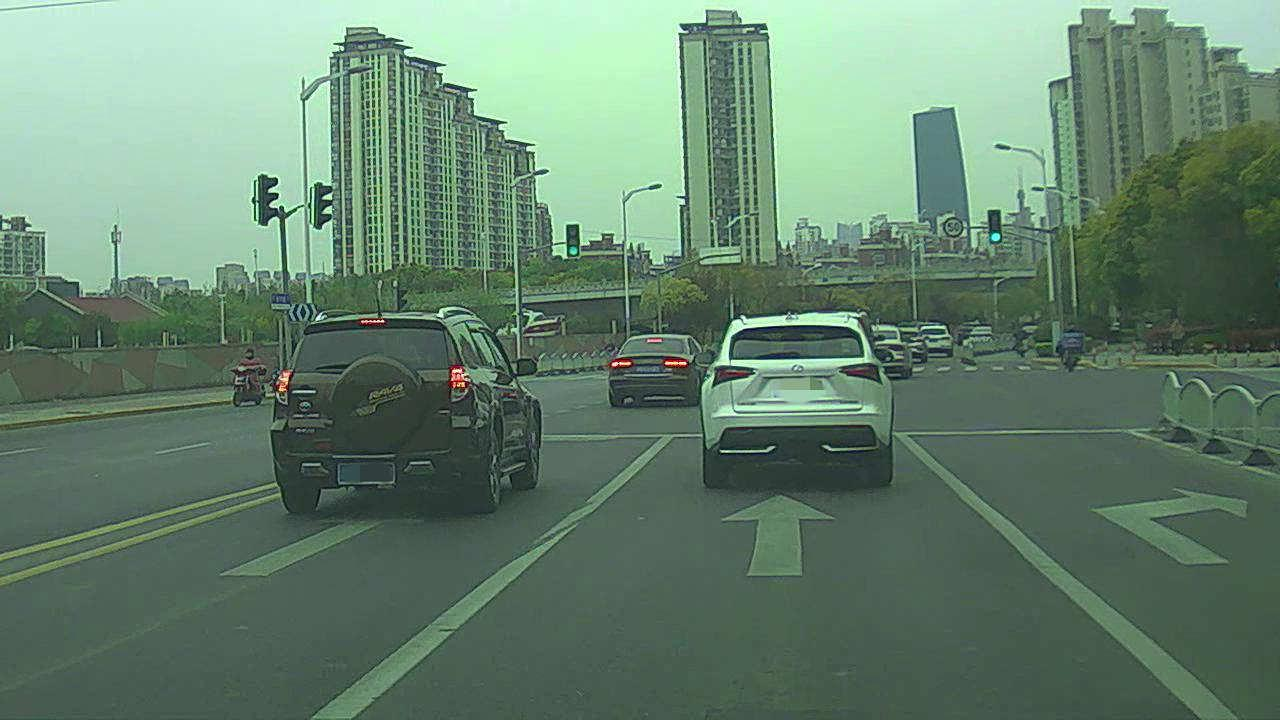traffic_light: (565, 220, 584, 260), (989, 207, 1004, 247)
